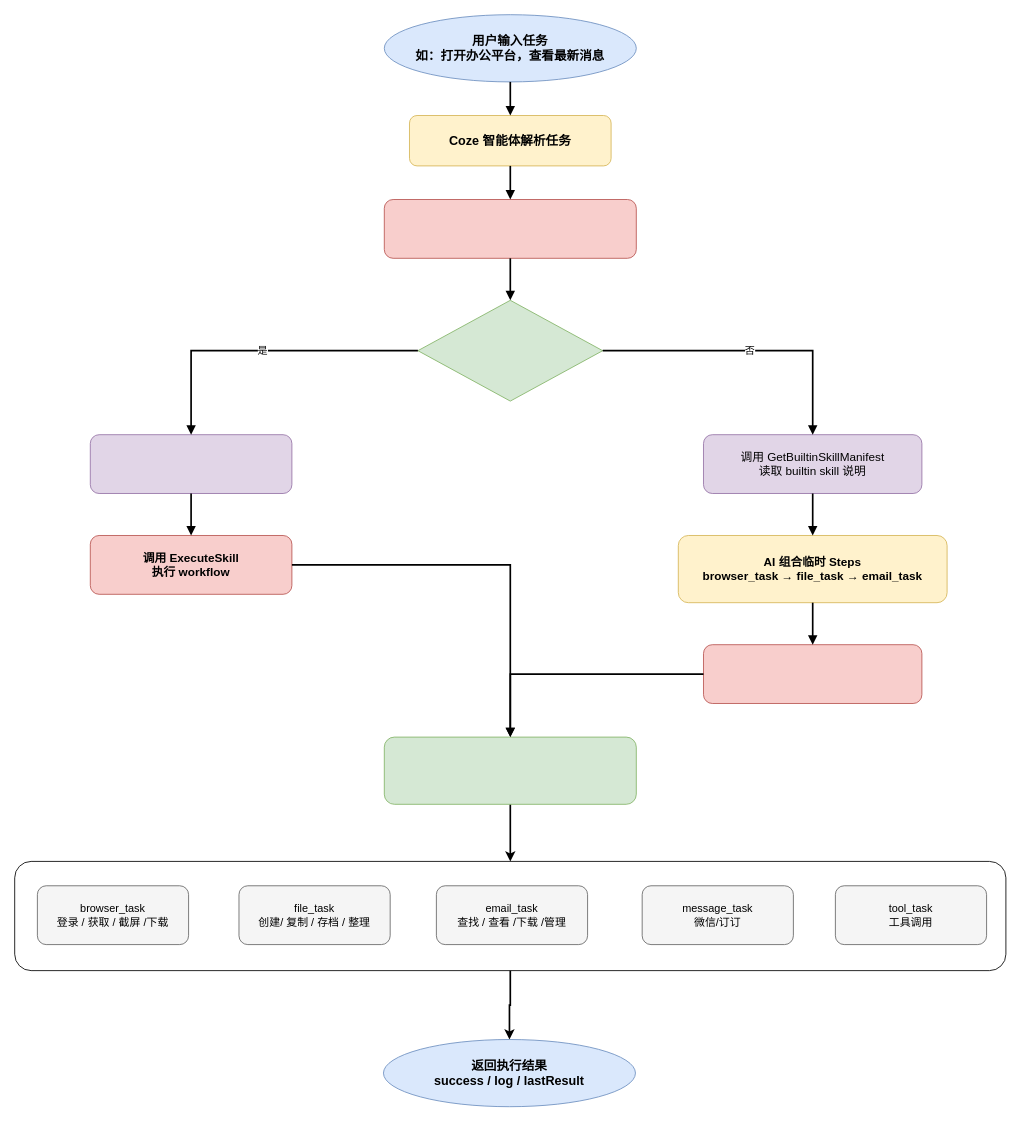
The diagram is 1021 pixels wide and 1121 high, and some of its shapes have lost their labels. Each missing label, with the centre of its shape:
Workflow Engine 步骤执行 / 变量传递 / lastResult: point 509,770
是否存在现成 workflow？: point 510,350
调用 ExecuteSkill 执行临时 workflow: point 812,674
调用 GetSkillAction 读取 workflow 详情: point 190,464
调用 GetSkillListForAI 查询 workflows 和 builtins: point 509,228
